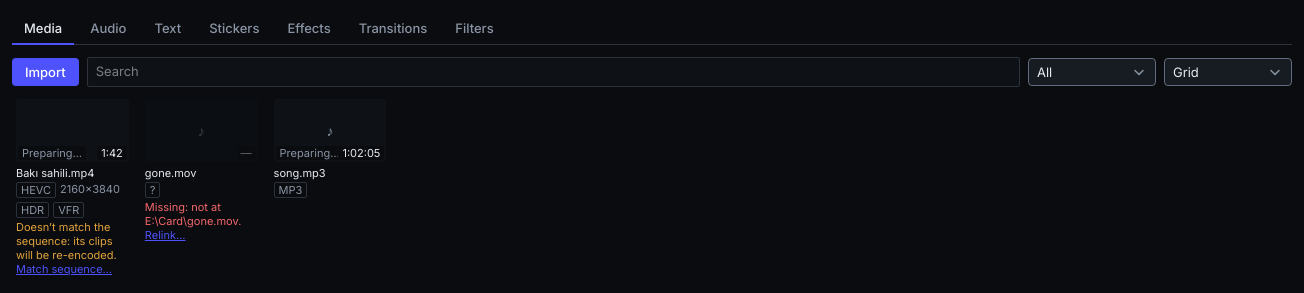
Test: the media library › filters the grid by the search
In the search field named "Search media": (553, 72) [87,57,1020,86], type "song"
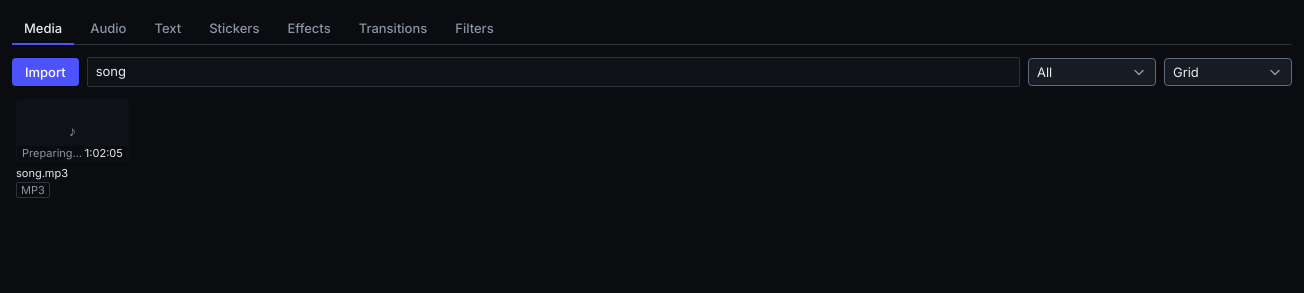
expect the list item with test id "asset-2" is shown: met, box [12,94,133,202]
expect the list item with test id "asset-1" is gone: met
